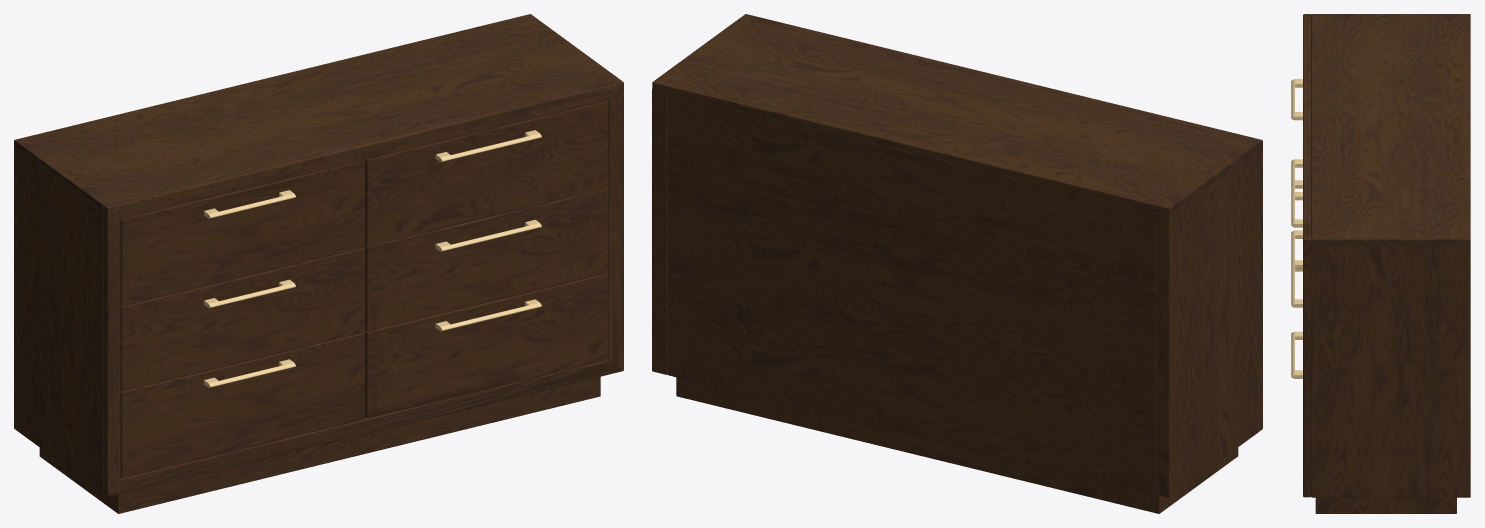
Rendered from cabinet_B071FJR479.glb.
3 views of the same model, side by side, from view 1: azimuth 30°, elevation 25°; view 2: azimuth 150°, elevation 25°; view 3: azimuth 270°, elevation 25° (orthographic). The views are drawn at different scales.
Parts seen in each view (by area): view 1: RootNode; view 2: RootNode; view 3: RootNode.
Part boxes in pixels (x1,y1,x2,y2): RootNode: (14,14,623,513); RootNode: (652,14,1262,513); RootNode: (1291,14,1470,513).
Bounding box in the file's own units: 1.52 × 0.8887 × 0.5124.
Materials: 1 (1 with a texture image).
